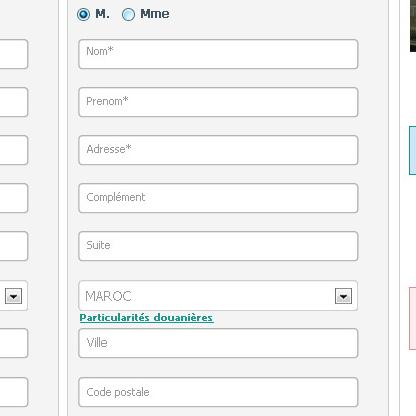field: (77, 374, 359, 410), (77, 228, 363, 263), (77, 36, 362, 71), (76, 180, 359, 215), (77, 85, 361, 119), (76, 133, 360, 167), (78, 327, 360, 361)
